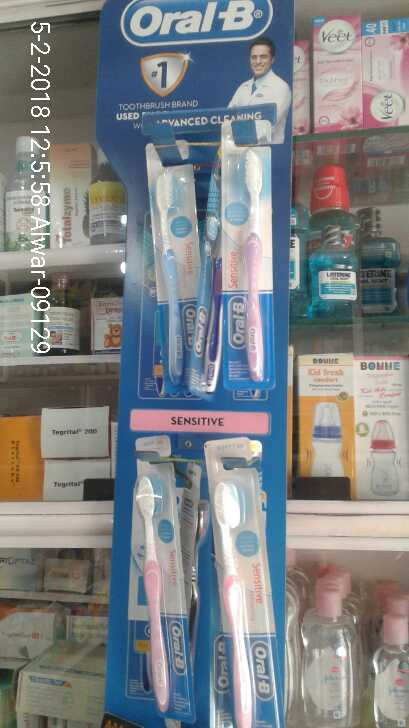oralb: (200, 432, 274, 728), (125, 447, 181, 713), (224, 123, 276, 397), (147, 137, 201, 391)
